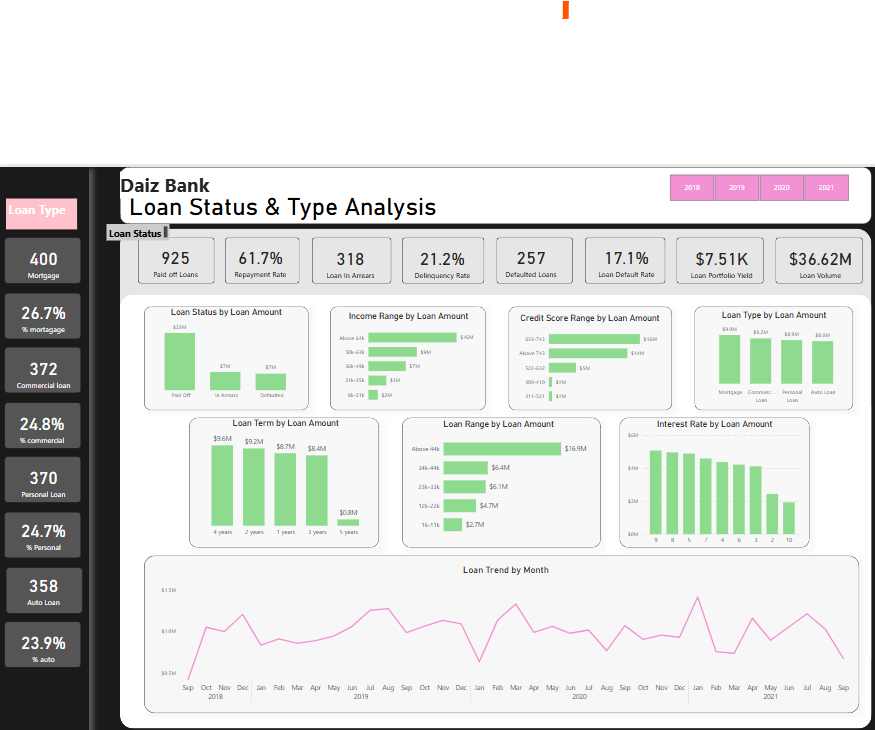

This screenshot's page, from the dashboard's own definition file:
{"tool":"powerbi","page":{"name":"Loan Status & Type","canvas":[2000,1300],"ordinal":1},"visuals":[{"type":"shape","box":[272.2,137.2,1670.2,1110.6],"z":0},{"type":"shape","box":[272.2,283.1,1670.2,964.7],"z":1000},{"type":"shape","box":[426.8,557.5,422.4,289.6],"z":2000},{"type":"shape","box":[326.6,309.2,365.8,230.8],"z":3000},{"type":"shape","box":[740.4,309.2,346.2,230.8],"z":4000},{"type":"shape","box":[1136.7,309.2,363.7,230.8],"z":5000},{"type":"shape","box":[1550.4,309.2,352.8,230.8],"z":6000},{"type":"shape","box":[899.3,557.5,442,289.6],"z":7000},{"type":"shape","box":[1384.9,557.5,422.4,289.6],"z":8000},{"type":"shape","box":[326.6,864.5,1589.6,350.6],"z":9000},{"type":"shape","box":[313.6,156.8,169.8,102.3],"z":10000},{"type":"shape","box":[508.3,156.8,165.5,102.3],"z":11000},{"type":"shape","box":[698.7,156.8,176.4,102.3],"z":12000},{"type":"shape","box":[900,156.8,182.9,102.3],"z":13000},{"type":"shape","box":[1108.4,156.8,169.8,102.3],"z":14000},{"type":"shape","box":[1306.8,156.8,178.6,102.3],"z":15000},{"type":"shape","box":[1510.3,156.8,193.8,102.3],"z":16000},{"type":"clusteredColumnChart","title":"Loan Term by Loan Amount","fields":{"Y":["Measures Table.Sum Loan Amt"],"Category":["loan dataset.Loan Term"]},"box":[442,557.5,396.3,272.2],"z":17000},{"type":"clusteredBarChart","title":"Loan Range by Loan  Amount","fields":{"Category":["loan dataset.Loan Amount Range"],"Y":["Measures Table.Sum Loan Amt"]},"box":[910.2,559.6,409.4,272.2],"z":18000},{"type":"clusteredColumnChart","title":"Interest Rate by Loan Amount","fields":{"Y":["Measures Table.Sum Loan Amt"],"Category":["loan dataset.Interest Rate"]},"box":[1395.8,559.6,396.3,287.4],"z":19000},{"type":"lineChart","title":"Loan Trend by Month","fields":{"Category":["Date Table.Year","Date Table.Month Name"],"Y":["Measures Table.Sum Loan Amt"]},"box":[361.5,881.9,1541.7,317.9],"z":20000},{"type":"card","fields":{"Values":["Measures Table.Paid off"]},"box":[324.5,161.1,145.9,95.8],"z":21000},{"type":"card","fields":{"Values":["Measures Table.Defaulted"]},"box":[1114.9,159,145.9,95.8],"z":22000},{"type":"card","fields":{"Values":["Measures Table.% In Arrers"]},"box":[899.3,163.3,178.6,95.8],"z":23000},{"type":"card","fields":{"Values":["Measures Table.In Arrears"]},"box":[707.7,163.3,156.8,95.8],"z":24000},{"type":"card","fields":{"Values":["Measures Table.% Paid Off"]},"box":[509.5,161.1,150.3,95.8],"z":25000},{"type":"card","fields":{"Values":["Measures Table.% Defaulters"]},"box":[1315.2,159,163.3,95.8],"z":26000},{"type":"card","fields":{"Values":["Measures Table.Loan Portfolio Yield"]},"box":[1517.8,163.3,187.3,95.8],"z":27000},{"type":"shape","box":[272.2,0,1670.2,98],"z":28000},{"type":"shape","title":"Loan Status & Type Analysis","box":[276.5,0,722.9,69.7],"z":29000},{"type":"slicer","fields":{"Values":["Date Table.Year"]},"box":[1469.8,8.7,446.4,71.9],"z":30000},{"type":"shape","box":[0,0,204.7,1300],"z":31000},{"type":"shape","box":[1729,156.8,193.8,102.3],"z":32000},{"type":"card","fields":{"Values":["Measures Table.Sum Loan Amt"]},"box":[1744.2,163.3,172,95.8],"z":33000},{"type":"clusteredColumnChart","title":"Loan Status by Loan Amount","fields":{"Y":["Measures Table.Sum Loan Amt"],"Category":["loan dataset.Loan Status"]},"box":[326.6,309.2,365.8,215.6],"z":34000},{"type":"clusteredBarChart","title":"Income Range by Loan Amount","fields":{"Category":["loan dataset.Income Range"],"Y":["Measures Table.Sum Loan Amt"]},"box":[749.1,320.1,328.8,215.6],"z":35000},{"type":"clusteredBarChart","title":"Credit Score Range by Loan Amount","fields":{"Category":["loan dataset.Credit Score Range"],"Y":["Measures Table.Sum Loan Amt"]},"box":[1149.7,324.5,335.3,215.6],"z":36000},{"type":"clusteredColumnChart","title":"Loan Type by Loan Amount","fields":{"Y":["Measures Table.Sum Loan Amt"],"Category":["loan dataset.Loan Type"]},"box":[1561.3,315.7,333.2,215.6],"z":37000},{"type":"shape","box":[17.4,156.8,169.8,102.3],"z":38000},{"type":"shape","box":[17.4,278.7,169.8,102.3],"z":39000},{"type":"shape","box":[17.4,400.7,169.8,102.3],"z":40000},{"type":"shape","box":[17.4,522.6,169.8,102.3],"z":41000},{"type":"shape","box":[17.4,766.5,169.8,102.3],"z":42000},{"type":"shape","box":[17.4,644.6,169.8,102.3],"z":43000},{"type":"card","fields":{"Values":["Measures Table.Mortgage"]},"box":[30.5,163.3,145.9,95.8],"z":44000},{"type":"card","fields":{"Values":["Measures Table.% commercial"]},"box":[28.3,529.1,145.9,95.8],"z":45000},{"type":"card","fields":{"Values":["Measures Table.Commercial loan"]},"box":[30.5,407.2,145.9,95.8],"z":46000},{"type":"card","fields":{"Values":["Measures Table.% mortagage"]},"box":[30.5,283.1,145.9,95.8],"z":47000},{"type":"card","fields":{"Values":["Measures Table.% Personal"]},"box":[30.5,766.5,145.9,95.8],"z":48000},{"type":"card","fields":{"Values":["Measures Table.Personal Loan"]},"box":[30.5,648.9,145.9,95.8],"z":49000},{"type":"shape","box":[17.4,1010.4,169.8,102.3],"z":50000},{"type":"shape","box":[19.6,888.4,169.8,102.3],"z":51000},{"type":"card","fields":{"Values":["Measures Table.Auto Loan"]},"box":[30.5,888.4,145.9,95.8],"z":52000},{"type":"card","fields":{"Values":["Measures Table.% auto"]},"box":[30.5,1016.9,145.9,95.8],"z":53000},{"type":"textbox","box":[20.1,68.9,157.8,68.9],"z":54000},{"type":"textbox","box":[243.9,97.6,137.7,60.3],"z":55000}]}

Visuals, with their boxes on the page's 2000x1300 design canvas (x1, y1, x2, y2). These are canvas units, not pixel positions in the 875x730 screenshot, which may show the page scaled, cropped or inside an application window:
shape: (272,137,1942,1248)
shape: (272,283,1942,1248)
shape: (427,558,849,847)
shape: (327,309,692,540)
shape: (740,309,1087,540)
shape: (1137,309,1500,540)
shape: (1550,309,1903,540)
shape: (899,558,1341,847)
shape: (1385,558,1807,847)
shape: (327,864,1916,1215)
shape: (314,157,483,259)
shape: (508,157,674,259)
shape: (699,157,875,259)
shape: (900,157,1083,259)
shape: (1108,157,1278,259)
shape: (1307,157,1485,259)
shape: (1510,157,1704,259)
"Loan Term by Loan Amount" clusteredColumnChart: (442,558,838,830)
"Loan Range by Loan  Amount" clusteredBarChart: (910,560,1320,832)
"Interest Rate by Loan Amount" clusteredColumnChart: (1396,560,1792,847)
"Loan Trend by Month" lineChart: (362,882,1903,1200)
card - Measures Table.Paid off: (324,161,470,257)
card - Measures Table.Defaulted: (1115,159,1261,255)
card - Measures Table.% In Arrers: (899,163,1078,259)
card - Measures Table.In Arrears: (708,163,864,259)
card - Measures Table.% Paid Off: (510,161,660,257)
card - Measures Table.% Defaulters: (1315,159,1478,255)
card - Measures Table.Loan Portfolio Yield: (1518,163,1705,259)
shape: (272,0,1942,98)
"Loan Status & Type Analysis" shape: (276,0,999,70)
slicer - Date Table.Year: (1470,9,1916,81)
shape: (0,0,205,1300)
shape: (1729,157,1923,259)
card - Measures Table.Sum Loan Amt: (1744,163,1916,259)
"Loan Status by Loan Amount" clusteredColumnChart: (327,309,692,525)
"Income Range by Loan Amount" clusteredBarChart: (749,320,1078,536)
"Credit Score Range by Loan Amount" clusteredBarChart: (1150,324,1485,540)
"Loan Type by Loan Amount" clusteredColumnChart: (1561,316,1894,531)
shape: (17,157,187,259)
shape: (17,279,187,381)
shape: (17,401,187,503)
shape: (17,523,187,625)
shape: (17,766,187,869)
shape: (17,645,187,747)
card - Measures Table.Mortgage: (30,163,176,259)
card - Measures Table.% commercial: (28,529,174,625)
card - Measures Table.Commercial loan: (30,407,176,503)
card - Measures Table.% mortagage: (30,283,176,379)
card - Measures Table.% Personal: (30,766,176,862)
card - Measures Table.Personal Loan: (30,649,176,745)
shape: (17,1010,187,1113)
shape: (20,888,189,991)
card - Measures Table.Auto Loan: (30,888,176,984)
card - Measures Table.% auto: (30,1017,176,1113)
textbox: (20,69,178,138)
textbox: (244,98,382,158)
